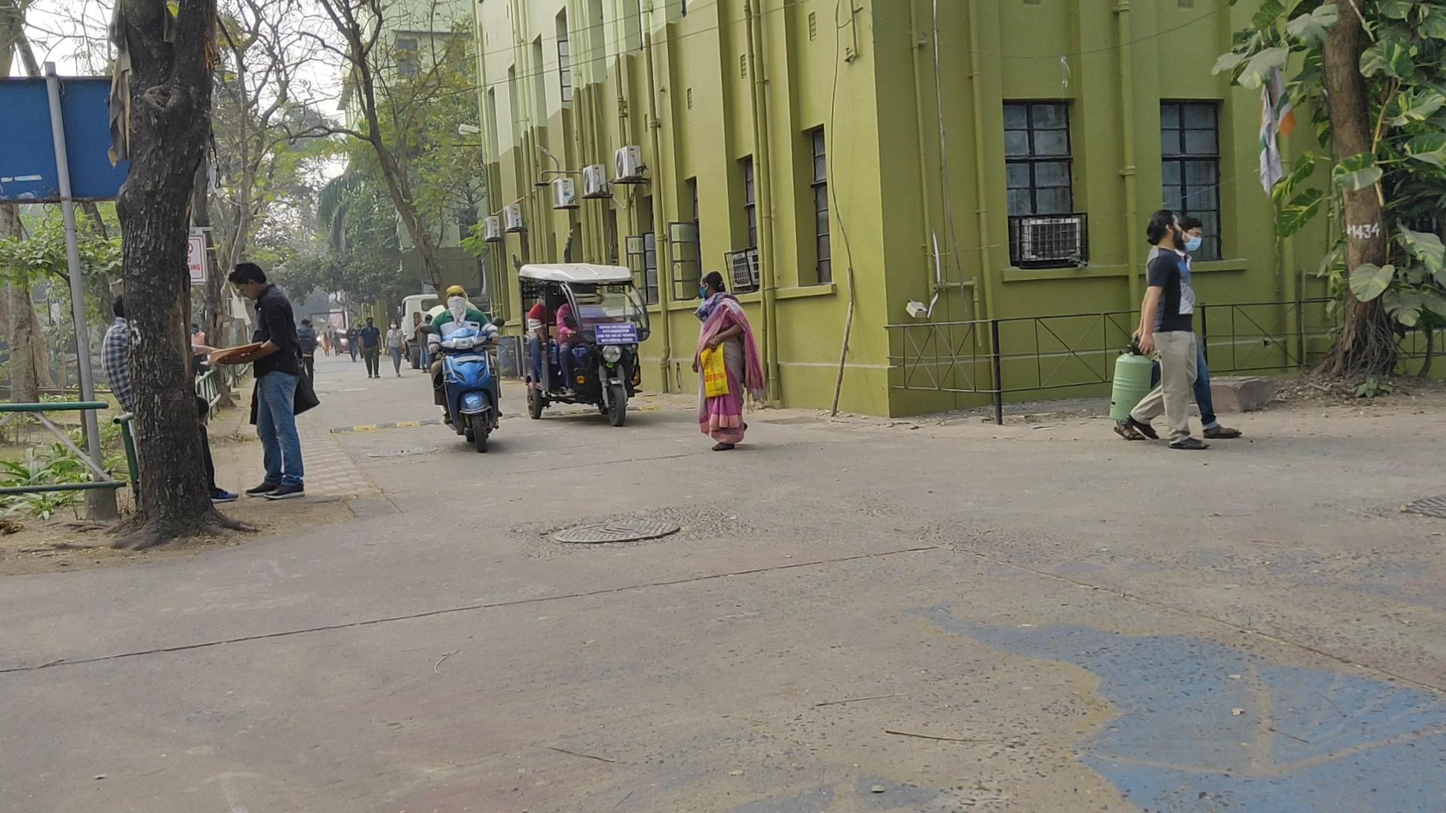Auto: (518, 263, 652, 428)
bike: (416, 283, 505, 452)
